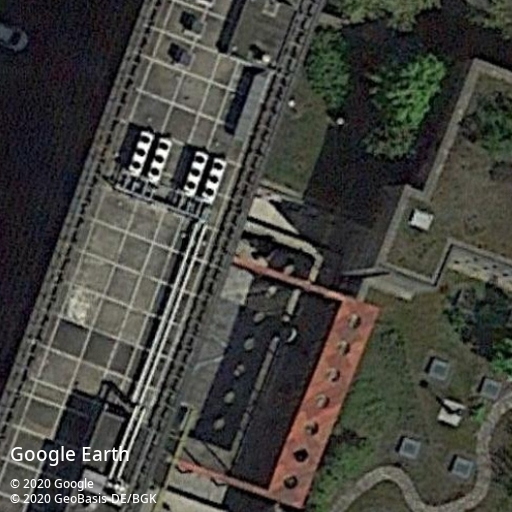Chiller: (183, 150, 210, 196), (202, 157, 229, 203), (147, 135, 173, 182), (129, 130, 155, 174)
